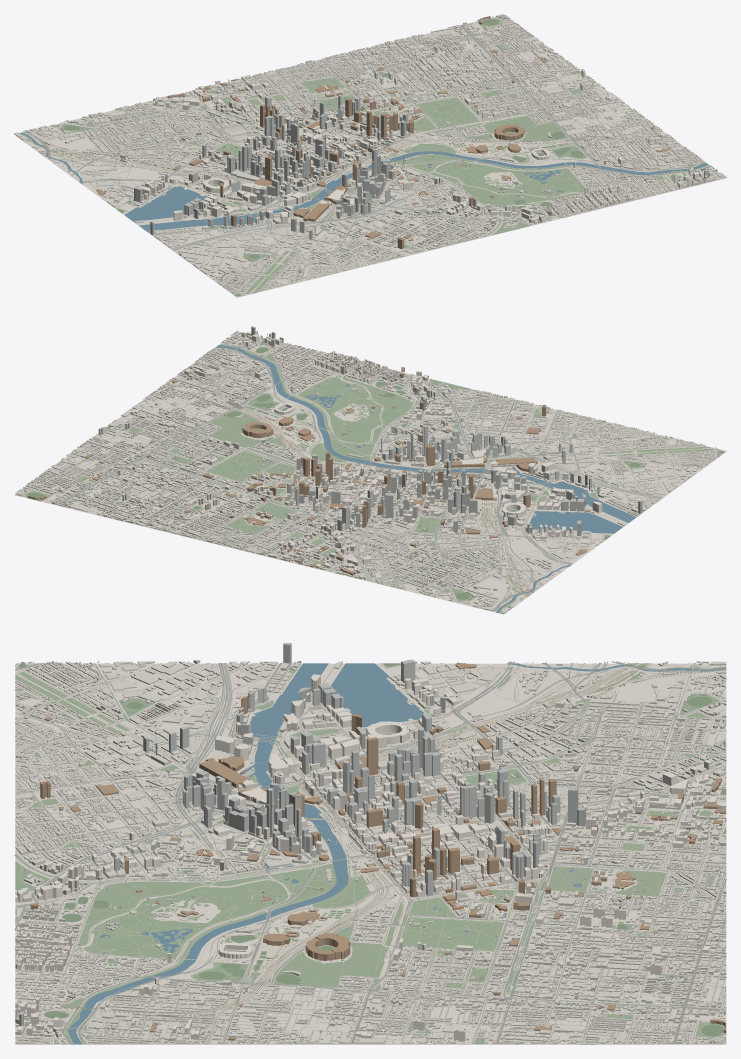
Rendered from melb-city-phase15.glb.
3 views of the same model, one above another, from view 1: azimuth 30°, elevation 25°; view 2: azimuth 150°, elevation 25°; view 3: azimuth 270°, elevation 25° (orthographic). The views are drawn at different scales.
Parts seen in each view (by area): view 1: Ground_surface, Road_surface, Park_surface, Path_surface, RoadMajor_surface, Water_surface, Mass_Ivory_1_-2, Mass_Ivory_-2_-2, Mass_Ivory_2_-2, Mass_Ivory_2_-1, Mass_Ivory_2_1, Mass_Ivory_-3_1 (+52 smaller); view 2: Ground_surface, Park_surface, Road_surface, RoadMajor_surface, Path_surface, Water_surface, Mass_Ivory_1_-2, Mass_Ivory_-2_-2, Mass_Ivory_2_-2, Mass_Ivory_2_-1, Mass_Ivory_2_1, Mass_Ivory_-3_1 (+51 smaller); view 3: Ground_surface, Park_surface, Road_surface, Path_surface, RoadMajor_surface, Water_surface, Mass_Ivory_1_-2, Mass_Ivory_-2_-2, Mass_Ivory_2_-2, Rail_surface, Mass_Ivory_2_1, Mass_Ivory_-3_1 (+62 smaller).
Part boxes in pixels (left/top/right/bottom): Ground_surface: left=14, top=17, right=726, bottom=297; Road_surface: left=21, top=17, right=723, bottom=296; Park_surface: left=18, top=18, right=708, bottom=296; Path_surface: left=21, top=17, right=722, bottom=297; RoadMajor_surface: left=23, top=24, right=709, bottom=293; Water_surface: left=20, top=97, right=708, bottom=231; Mass_Ivory_1_-2: left=360, top=44, right=486, bottom=99; Mass_Ivory_-2_-2: left=106, top=107, right=229, bottom=159; Mass_Ivory_2_-2: left=441, top=26, right=564, bottom=79; Mass_Ivory_2_-1: left=491, top=60, right=605, bottom=110; Mass_Ivory_2_1: left=585, top=132, right=712, bottom=184; Mass_Ivory_-3_1: left=178, top=233, right=297, bottom=285; Ground_surface: left=14, top=332, right=726, bottom=614; Park_surface: left=25, top=344, right=724, bottom=613; Road_surface: left=17, top=333, right=725, bottom=610; RoadMajor_surface: left=31, top=341, right=718, bottom=611; Path_surface: left=23, top=333, right=723, bottom=611; Water_surface: left=214, top=345, right=636, bottom=612; Mass_Ivory_1_-2: left=107, top=467, right=238, bottom=521; Mass_Ivory_-2_-2: left=360, top=531, right=485, bottom=583; Mass_Ivory_2_-2: left=31, top=448, right=154, bottom=501; Mass_Ivory_2_-1: left=77, top=415, right=197, bottom=466; Mass_Ivory_2_1: left=177, top=341, right=298, bottom=396; Mass_Ivory_-3_1: left=588, top=443, right=710, bottom=495; Ground_surface: left=15, top=663, right=726, bottom=1044; Park_surface: left=15, top=663, right=726, bottom=1044; Road_surface: left=15, top=661, right=726, bottom=1044; Path_surface: left=15, top=662, right=726, bottom=1044; RoadMajor_surface: left=14, top=661, right=726, bottom=1044; Water_surface: left=67, top=663, right=725, bottom=1044; Mass_Ivory_1_-2: left=520, top=916, right=681, bottom=983; Mass_Ivory_-2_-2: left=522, top=720, right=679, bottom=789; Mass_Ivory_2_-2: left=521, top=980, right=681, bottom=1043; Rail_surface: left=15, top=663, right=725, bottom=1043; Mass_Ivory_2_1: left=62, top=981, right=218, bottom=1043; Mass_Ivory_-3_1: left=60, top=660, right=220, bottom=724.
Size of the model in its own units: 47.01 by 2.7 by 37.11.
